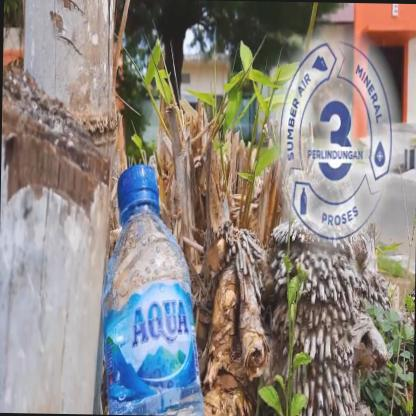plastic_bottles: (93, 165, 208, 416)
